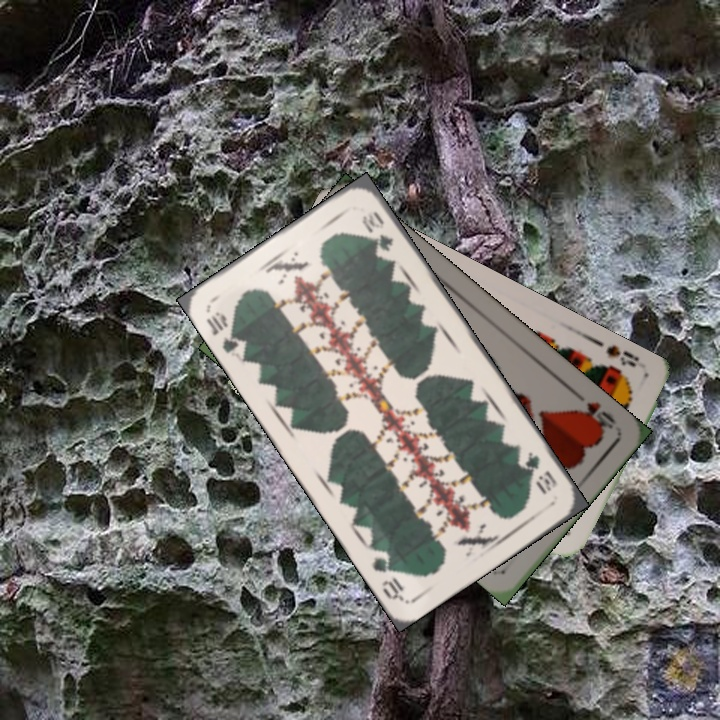G10: (202, 307, 249, 360), (520, 448, 560, 497)
HO: (571, 388, 620, 435)
S8: (602, 341, 642, 370)
